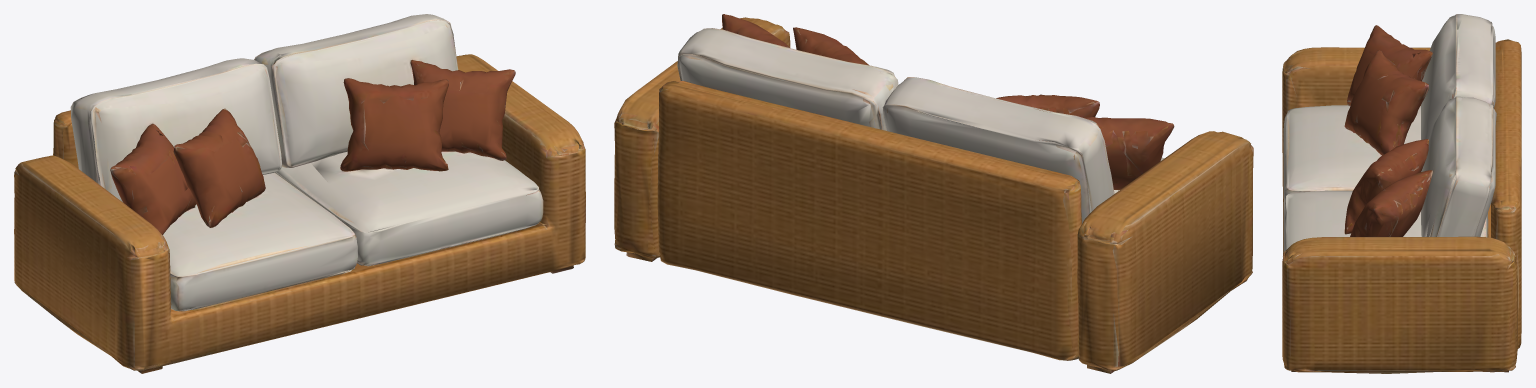
Rendered from sofa_wicker.glb.
3 renders of one model, left to right at view 1: azimuth 30°, elevation 25°; view 2: azimuth 150°, elevation 25°; view 3: azimuth 270°, elevation 25°, orthographic. The views are drawn at different scales.
Visible parts, largest first — view 1: prop; view 2: prop; view 3: prop.
Boxes of the visible parts, bbox=[...] form: prop: bbox=[14, 14, 585, 373]; prop: bbox=[614, 14, 1253, 373]; prop: bbox=[1282, 14, 1521, 373].
Size of the model in its own units: 2.1 by 0.8576 by 1.01.
1 material, 1 textured.
